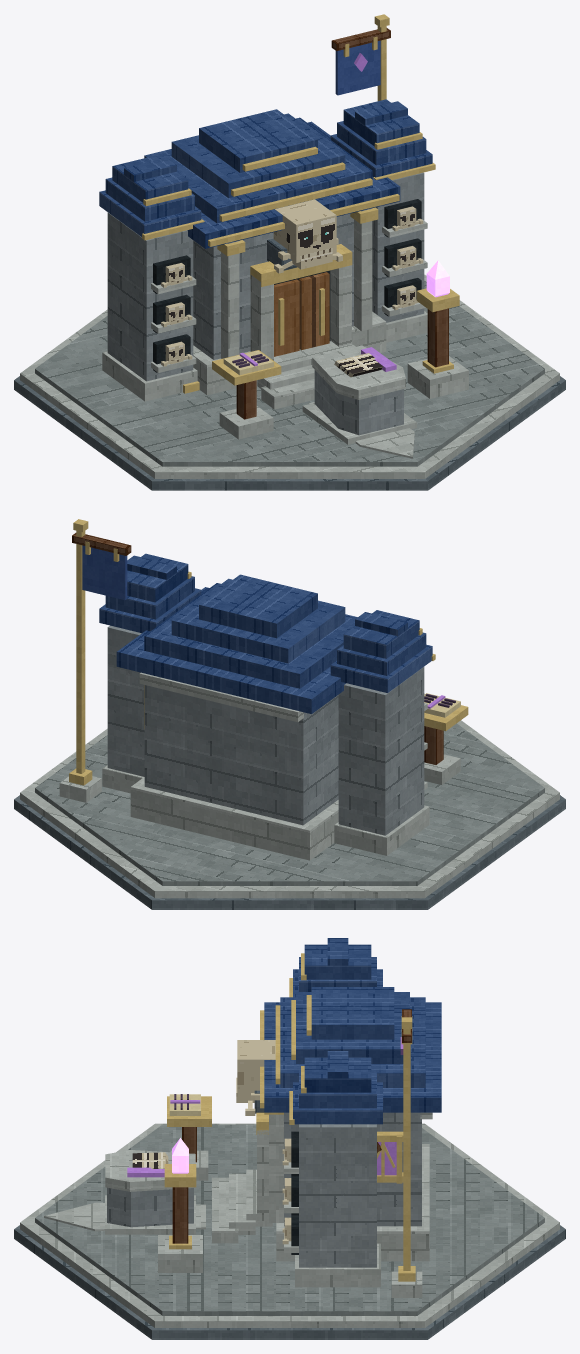
Rendered from necromancy_ossuary_hex_v1.glb.
The picture shows the model from 3 angles, top to bottom: view 1: azimuth 30°, elevation 25°; view 2: azimuth 150°, elevation 25°; view 3: azimuth 270°, elevation 25°; orthographic projection.
Parts seen in each view (by area): view 1: Necromancy_Ossuary_Hex_V1_Foundation, Necromancy_Ossuary_Hex_V1_Roofs, Necromancy_Ossuary_Hex_V1_Hall, Necromancy_Ossuary_Hex_V1_Focus, Necromancy_Ossuary_Hex_V1_Training, Necromancy_Ossuary_Hex_V1_Details, Necromancy_Ossuary_Hex_V1_Courtyard, Necromancy_Ossuary_Hex_V1_Faction; view 2: Necromancy_Ossuary_Hex_V1_Hall, Necromancy_Ossuary_Hex_V1_Foundation, Necromancy_Ossuary_Hex_V1_Roofs, Necromancy_Ossuary_Hex_V1_Faction, Necromancy_Ossuary_Hex_V1_Training, Necromancy_Ossuary_Hex_V1_Details; view 3: Necromancy_Ossuary_Hex_V1_Foundation, Necromancy_Ossuary_Hex_V1_Roofs, Necromancy_Ossuary_Hex_V1_Hall, Necromancy_Ossuary_Hex_V1_Training, Necromancy_Ossuary_Hex_V1_Focus, Necromancy_Ossuary_Hex_V1_Courtyard, Necromancy_Ossuary_Hex_V1_Faction, Necromancy_Ossuary_Hex_V1_Details.
Boxes of the visible parts, box(x1,y1,x2,y2) form: Necromancy_Ossuary_Hex_V1_Foundation: box(14, 274, 565, 490); Necromancy_Ossuary_Hex_V1_Roofs: box(99, 99, 435, 248); Necromancy_Ossuary_Hex_V1_Hall: box(102, 172, 427, 401); Necromancy_Ossuary_Hex_V1_Focus: box(151, 199, 468, 398); Necromancy_Ossuary_Hex_V1_Training: box(183, 345, 416, 444); Necromancy_Ossuary_Hex_V1_Details: box(217, 207, 378, 358); Necromancy_Ossuary_Hex_V1_Courtyard: box(257, 341, 414, 458); Necromancy_Ossuary_Hex_V1_Faction: box(331, 14, 390, 101); Necromancy_Ossuary_Hex_V1_Hall: box(102, 625, 429, 860); Necromancy_Ossuary_Hex_V1_Foundation: box(14, 693, 565, 909); Necromancy_Ossuary_Hex_V1_Roofs: box(99, 553, 435, 713); Necromancy_Ossuary_Hex_V1_Faction: box(59, 519, 131, 802); Necromancy_Ossuary_Hex_V1_Training: box(424, 693, 468, 784); Necromancy_Ossuary_Hex_V1_Details: box(139, 672, 303, 728); Necromancy_Ossuary_Hex_V1_Foundation: box(14, 1123, 565, 1339); Necromancy_Ossuary_Hex_V1_Roofs: box(260, 938, 441, 1124); Necromancy_Ossuary_Hex_V1_Hall: box(256, 1112, 429, 1287); Necromancy_Ossuary_Hex_V1_Training: box(105, 1094, 211, 1234); Necromancy_Ossuary_Hex_V1_Focus: box(158, 1040, 298, 1272); Necromancy_Ossuary_Hex_V1_Courtyard: box(44, 1169, 272, 1243); Necromancy_Ossuary_Hex_V1_Faction: box(391, 1009, 422, 1297); Necromancy_Ossuary_Hex_V1_Details: box(264, 1112, 432, 1222).
Bounding box in the file's own units: 1.59 × 1.08 × 1.84.
1 material, 1 textured.
